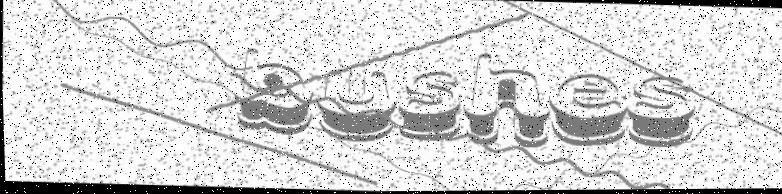b: (236, 47, 315, 137)
e: (547, 70, 628, 148)
h: (461, 52, 553, 151)
s: (626, 73, 697, 150), (396, 68, 463, 143)
u: (314, 69, 398, 144)
